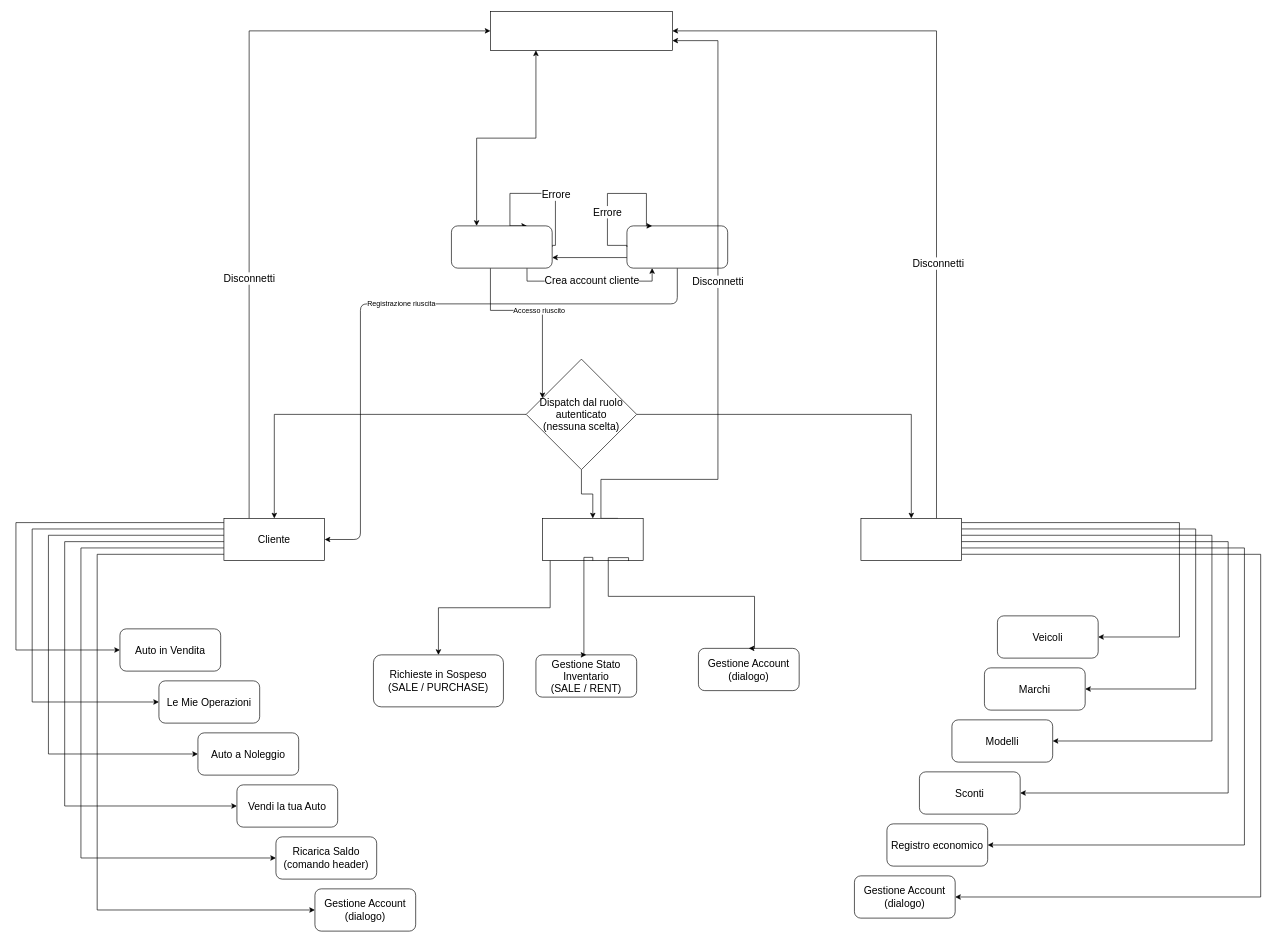
Some shapes in this 1277 by 942 pixel diagram are drawn without their labels. Here are the shapes that lost their labels. From the top down, the centre of each, then its label:
the point at 581,30: LoginView: vista iniziale tab Accedi / Registrati
the point at 501,246: Accedi
the point at 677,246: Registrati (solo cliente)
the point at 592,539: Venditore
the point at 911,539: Manager
